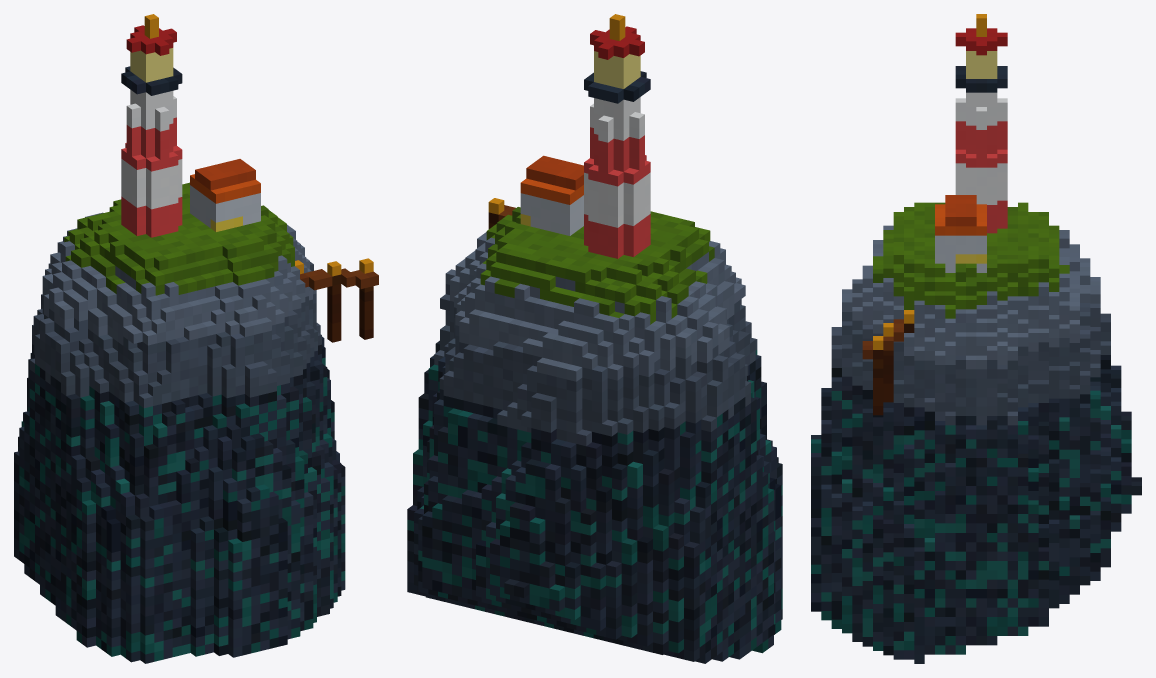
The model's file is lighthouse_island.glb.
3 renders of one model, left to right at view 1: azimuth 30°, elevation 25°; view 2: azimuth 150°, elevation 25°; view 3: azimuth 270°, elevation 25°, orthographic. The views are drawn at different scales.
Visible parts, largest first — view 1: LighthouseIsland; view 2: LighthouseIsland; view 3: LighthouseIsland.
Part boxes in pixels (left/top/right/bottom): LighthouseIsland: left=14, top=14, right=378, bottom=663; LighthouseIsland: left=407, top=14, right=782, bottom=663; LighthouseIsland: left=811, top=14, right=1141, bottom=663.
Bounding box in the file's own units: 1.65 × 3.36 × 1.76.
